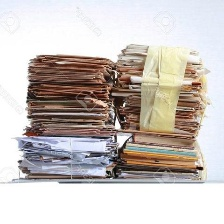news_paper: (10, 42, 120, 181), (112, 39, 215, 181)
